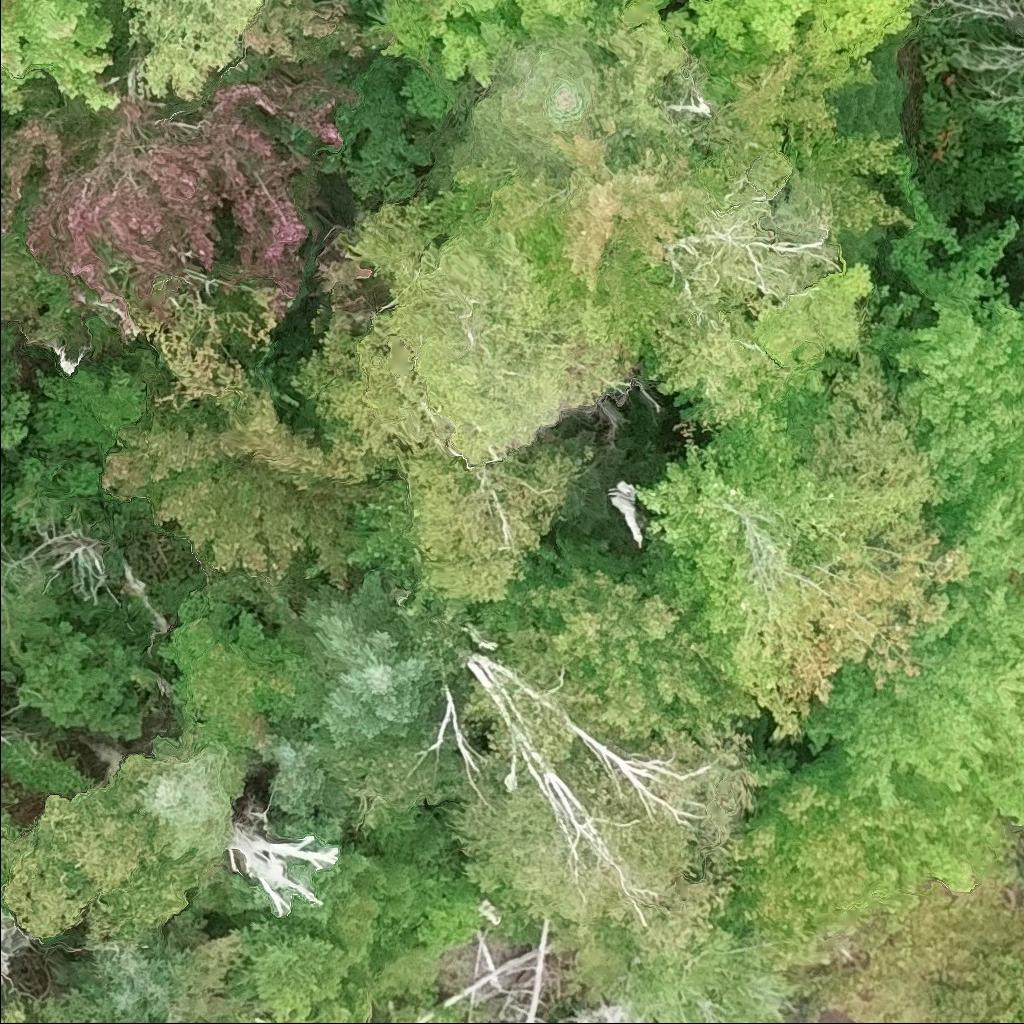crown: (299, 203, 632, 611), (512, 403, 857, 741), (0, 56, 359, 329), (447, 759, 728, 981), (377, 0, 625, 122), (277, 572, 446, 746), (430, 20, 603, 187), (669, 0, 917, 102), (168, 612, 303, 755), (117, 0, 292, 102), (0, 0, 122, 114), (112, 0, 127, 2)
